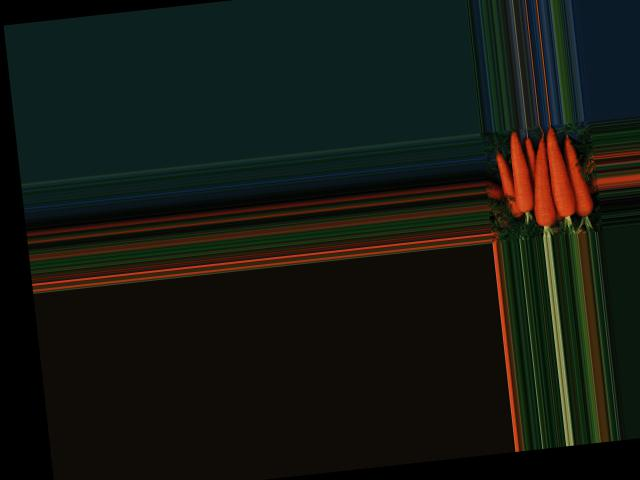carrot: (502, 132, 537, 218)
